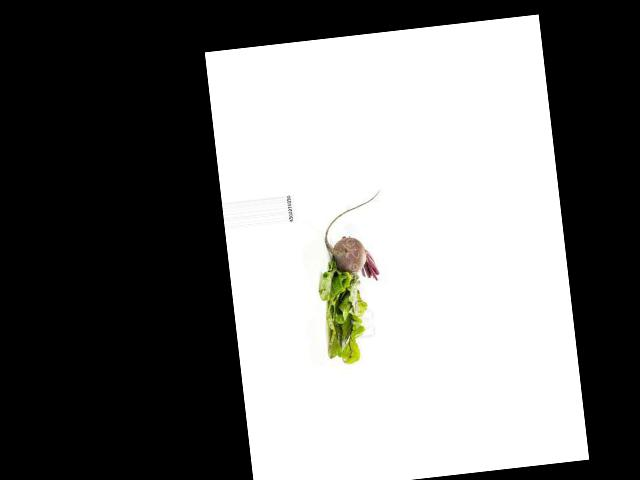beet: (319, 188, 390, 287)
